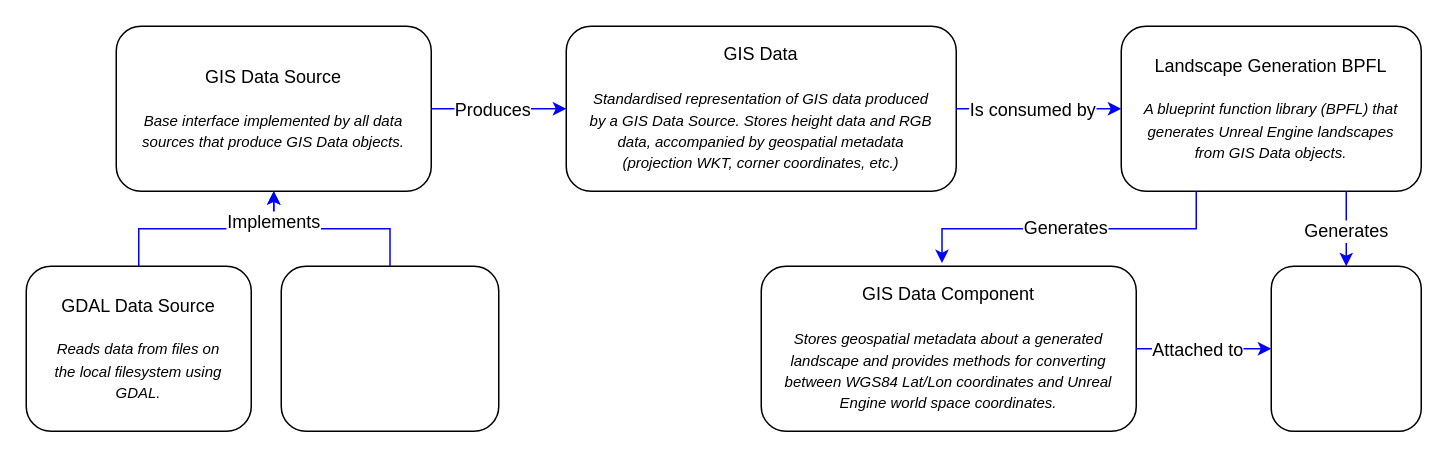
Image size: 1448x458. Some labels were removed from this diagram. The shapes that lost their labels are listed below. From the top down, each one's centre as x and y in pixels, then its label:
point 389,348: Mapbox Data Source Retrieves data from the Mapbox REST API.
point 1345,348: Generated Landscape
